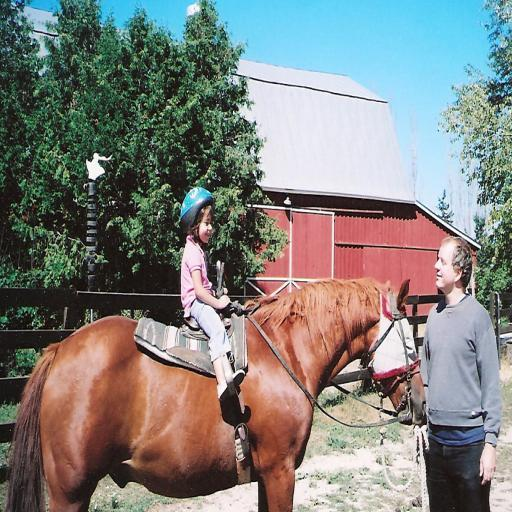Horse: (4, 280, 426, 511)
